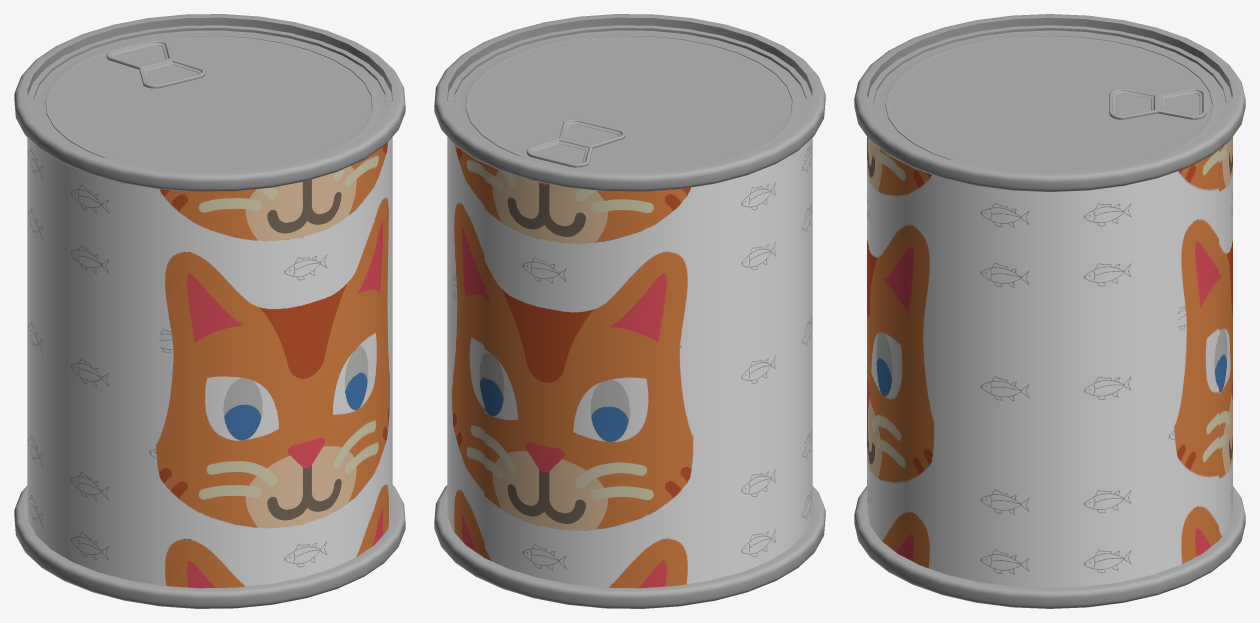
File: Can Tuna.fbx
3 renders of one model, left to right at view 1: azimuth 30°, elevation 25°; view 2: azimuth 150°, elevation 25°; view 3: azimuth 270°, elevation 25°, orthographic.
Visible parts, largest first — view 1: Cylinder.039; view 2: Cylinder.039; view 3: Cylinder.039.
Boxes of the visible parts, box(x1,y1,x2,y2) form: Cylinder.039: box(14, 14, 405, 608); Cylinder.039: box(434, 14, 825, 608); Cylinder.039: box(854, 14, 1245, 608).
Bounding box in the file's own units: 31.16 × 38.01 × 31.16.
Materials: 2 (1 with a texture image).
